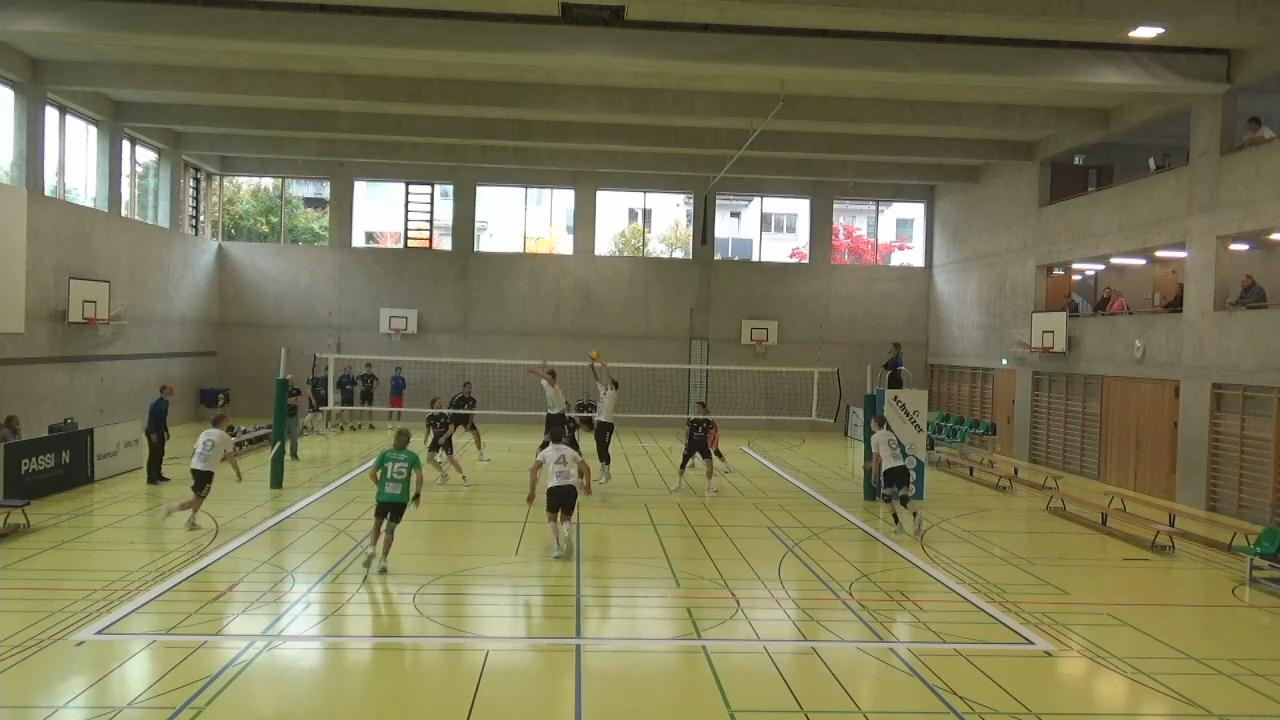Player: (525, 420, 591, 558), (364, 428, 425, 573), (182, 410, 245, 531), (869, 416, 925, 547), (527, 354, 572, 453), (669, 402, 715, 494), (423, 393, 467, 484), (450, 381, 487, 464), (700, 402, 728, 491), (571, 388, 600, 435)
Set: (583, 357, 623, 490)
ball: (587, 349, 603, 365)
